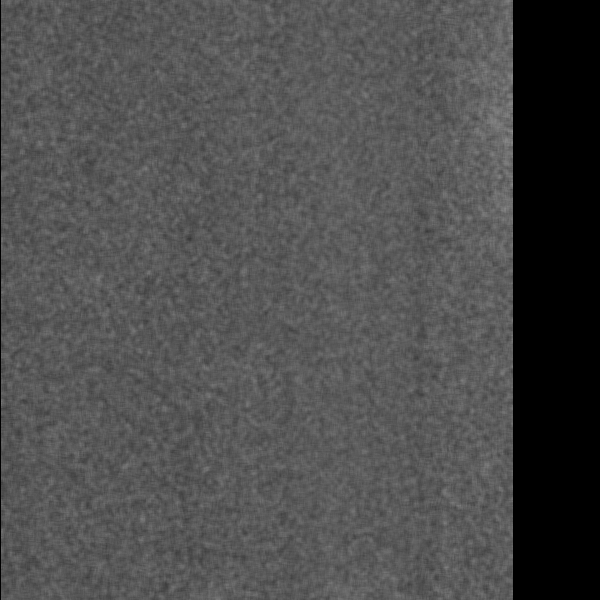spark: (146, 160, 184, 256), (411, 275, 469, 330), (125, 278, 170, 348), (181, 361, 216, 438), (480, 499, 513, 553), (111, 3, 150, 42), (290, 237, 324, 276), (484, 14, 512, 56)
